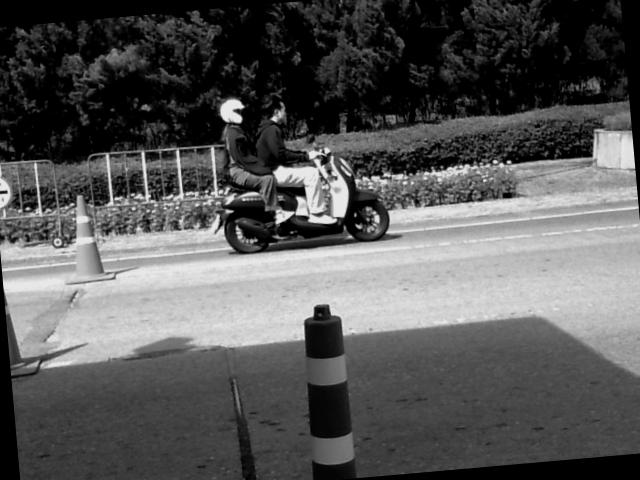helmet: (217, 95, 245, 122)
motor: (210, 145, 388, 252)
no-helmet: (259, 93, 289, 127)
person: (254, 95, 332, 222), (218, 96, 290, 222), (310, 200, 335, 222)
